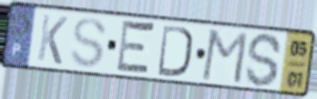D: (156, 23, 194, 79)
E: (113, 16, 158, 79)
K: (35, 12, 70, 67)
M: (199, 28, 250, 86)
S: (243, 31, 284, 90), (68, 16, 109, 70)
